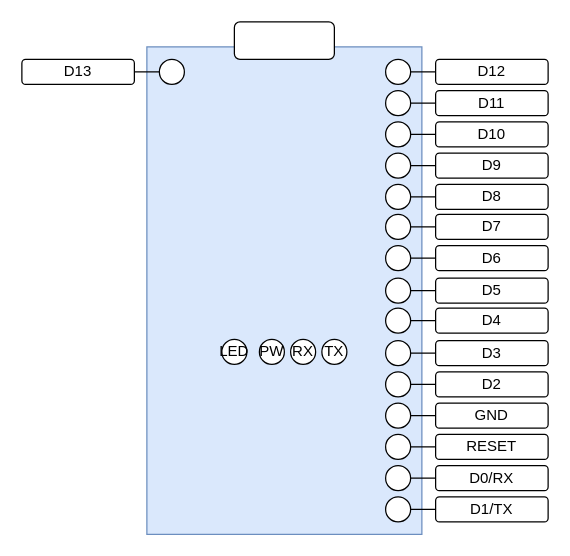
Image size: 570x556. Some labels were removed from this diagram. The box of each missing label's shape, as (x1, y1, x2, y2) in pixels:
Arduino nano ESP32: (146, 46, 422, 534)
USB C: (233, 21, 334, 59)
